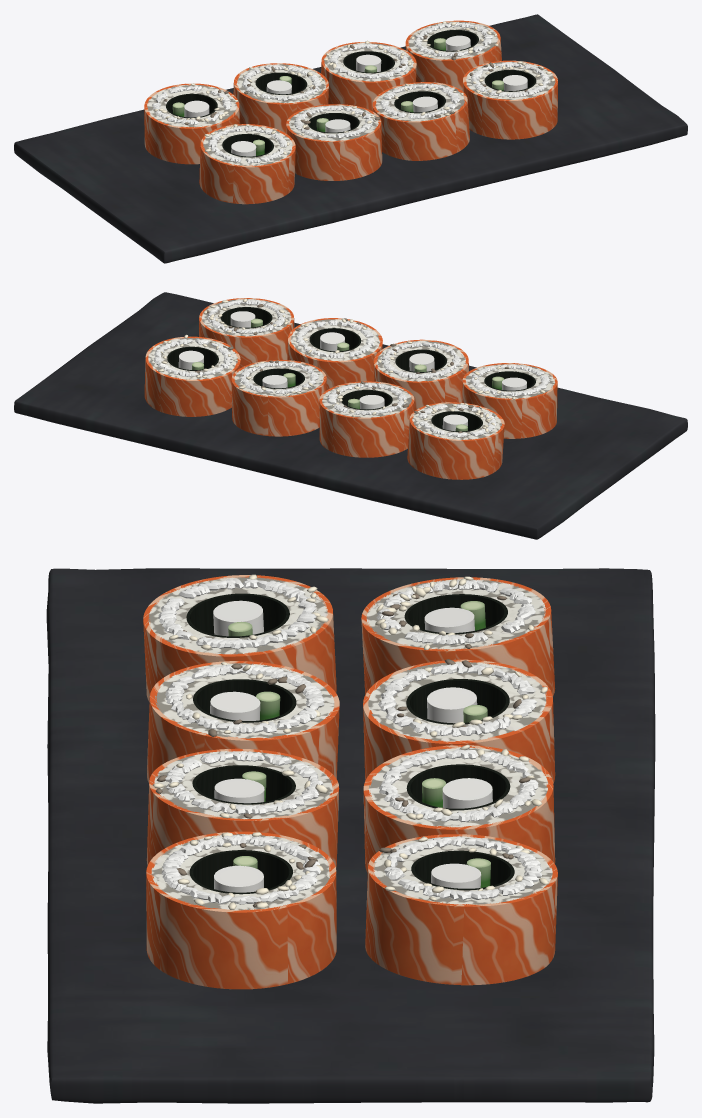
Rendered from philadelphia-roll.glb.
3 renders of one model, top to bottom at view 1: azimuth 30°, elevation 25°; view 2: azimuth 150°, elevation 25°; view 3: azimuth 270°, elevation 25°, orthographic. The views are drawn at different scales.
Parts seen in each view (by area): view 1: base, salmon, sushi-rice, nori, cream-cheese, sesame, cucumber; view 2: base, salmon, sushi-rice, nori, cream-cheese, sesame, cucumber; view 3: base, salmon, sushi-rice, nori, cream-cheese, sesame, cucumber.
Boxes of the visible parts, x1,y1,x2,y2 form: base: (14, 14, 687, 263); salmon: (144, 20, 557, 204); sushi-rice: (147, 21, 555, 165); nori: (166, 29, 536, 157); cream-cheese: (184, 35, 527, 156); sesame: (153, 21, 555, 154); cucumber: (172, 38, 503, 155); base: (14, 292, 687, 539); salmon: (144, 298, 557, 479); sushi-rice: (148, 299, 554, 439); nori: (167, 307, 535, 432); cream-cheese: (178, 311, 526, 431); sesame: (158, 298, 545, 433); cucumber: (192, 318, 504, 431); base: (46, 568, 655, 1103); salmon: (143, 575, 557, 989); sushi-rice: (148, 577, 552, 910); nori: (186, 593, 514, 894); cream-cheese: (210, 600, 492, 892); sesame: (152, 574, 548, 909); cucumber: (228, 601, 490, 887).
Bounding box in the file's own units: 0.3001 × 0.0326 × 0.1505.
Materials: 8 (6 with a texture image).
